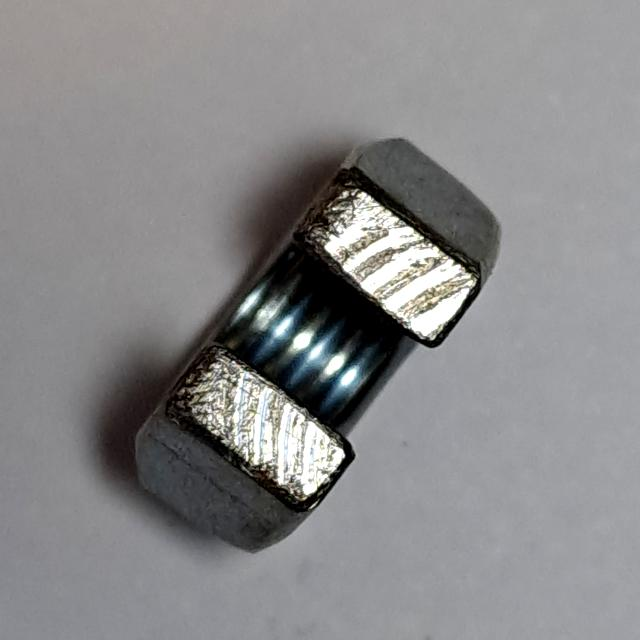Side-Fracture: (124, 124, 514, 576)
